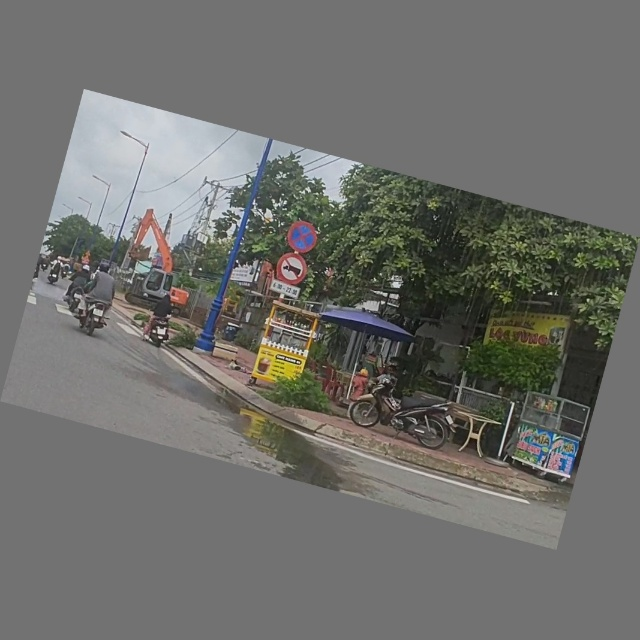B.8a: (273, 250, 311, 289)
P.130: (284, 219, 322, 257)
